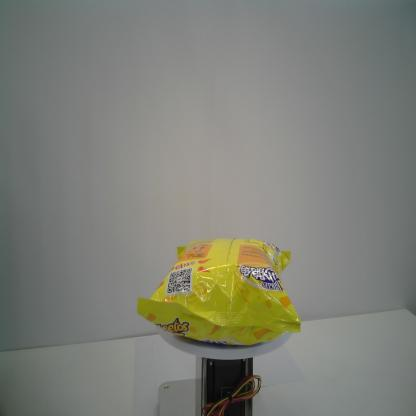Puffed Food: (136, 236, 302, 348)
